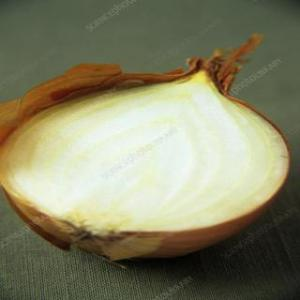onion: (3, 59, 290, 262)
